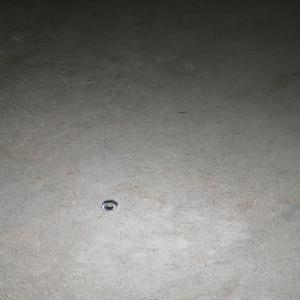Nut: (100, 200, 118, 210)
